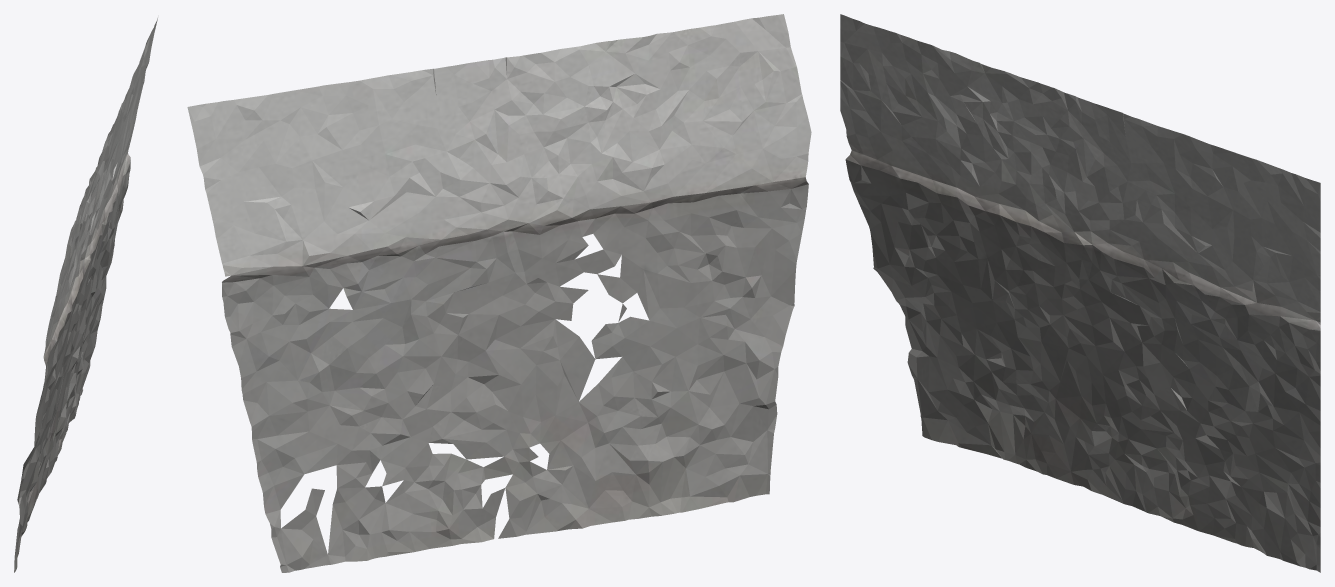
The picture shows the model from 3 angles, left to right: view 1: azimuth 30°, elevation 25°; view 2: azimuth 150°, elevation 25°; view 3: azimuth 270°, elevation 25°; orthographic projection. The views are drawn at different scales.
Bounding box in the file's own units: 0.7513 × 0.8374 × 0.8374.
3 materials, 3 textured.
